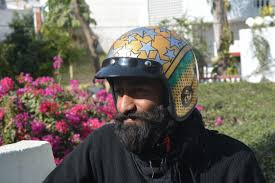helmet: (88, 24, 198, 165)
